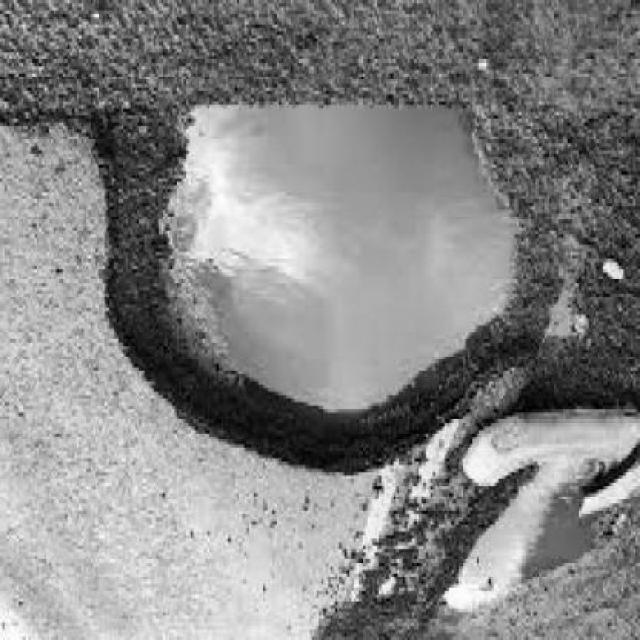pothole: (95, 98, 542, 490)
